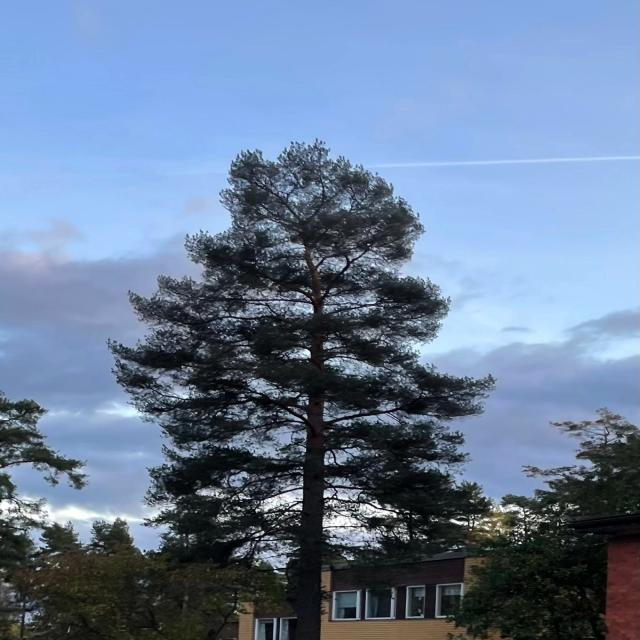pine: (107, 121, 514, 640)
